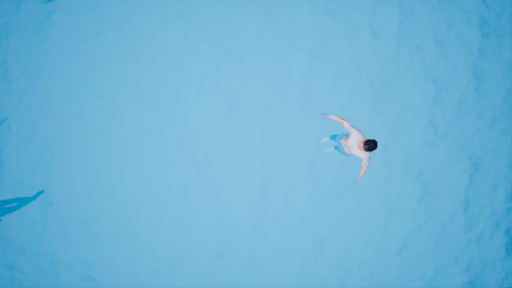person: (312, 108, 386, 183)
